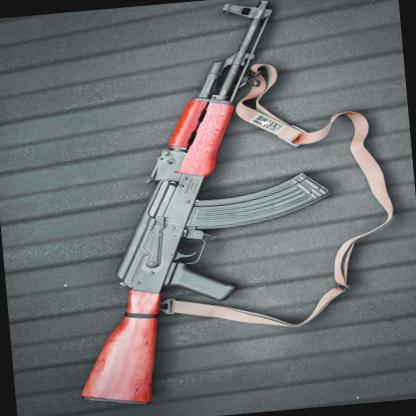rifle: (36, 0, 347, 407)
